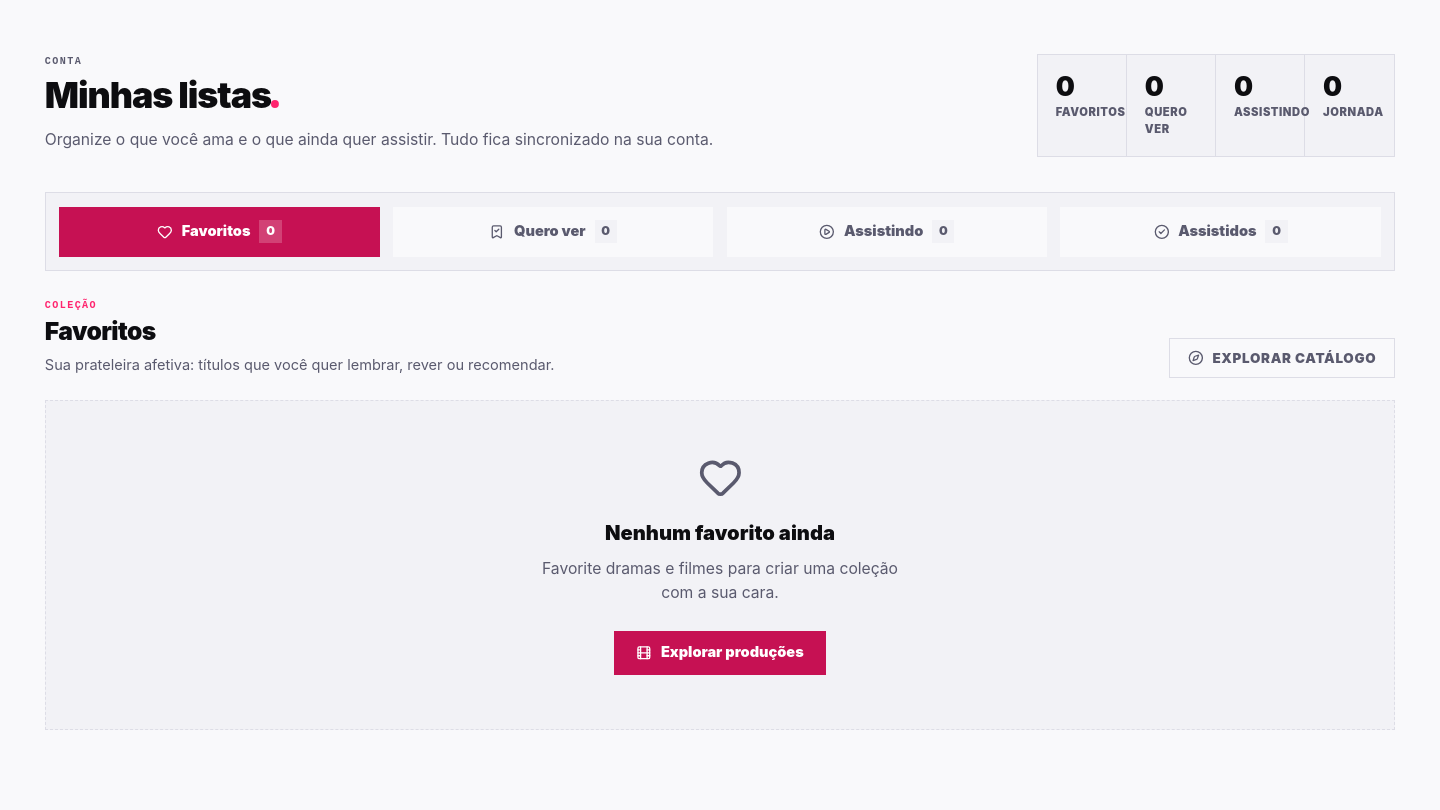
MinhasListasClient › clicar numa aba troca o conteúdo e a cópia exibida
Step 1. Click the button "Assistidos 0" → click(1221, 232), box [1060,207,1381,257]
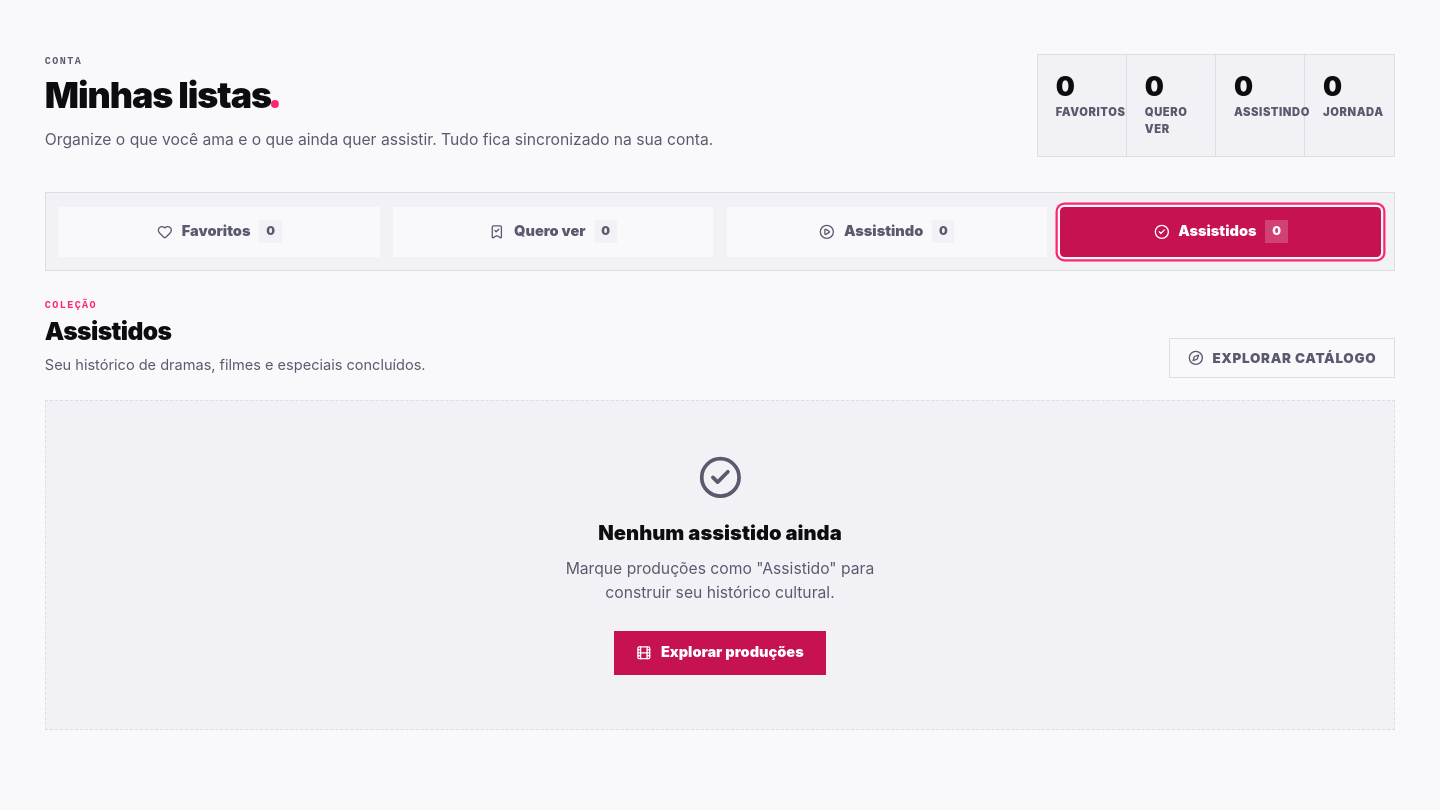
Check: the heading "Nenhum assistido ainda" is shown, box [598,520,842,545]
